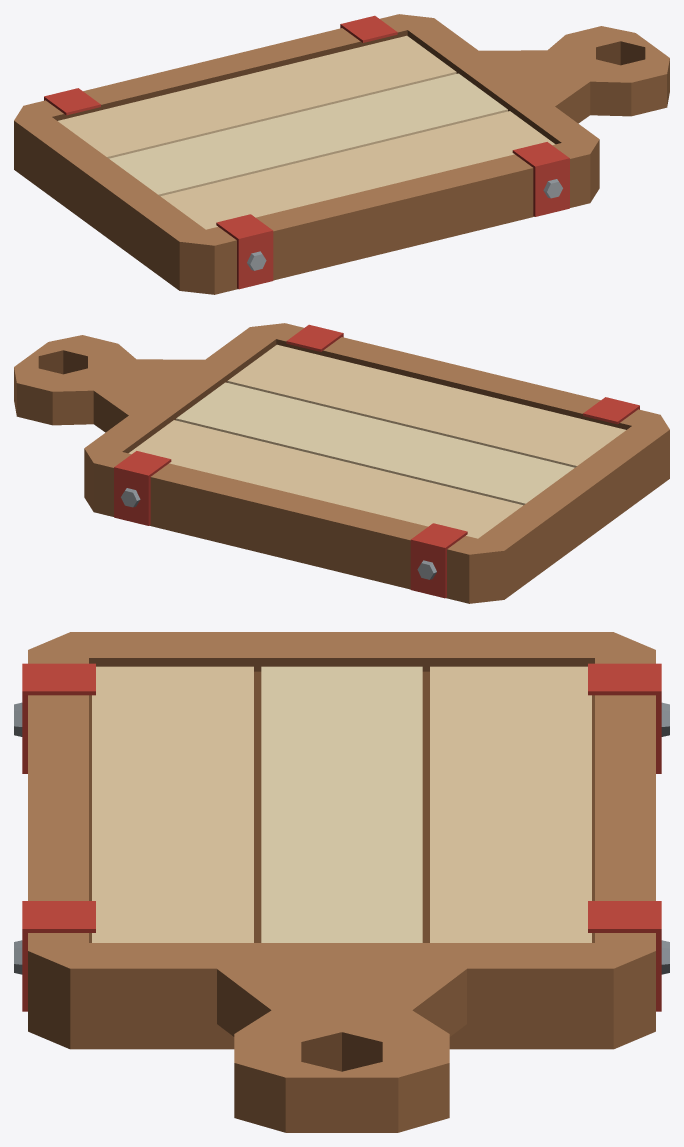
The model's file is FMS_Workshop_TOL_10.fbx.
3 renders of one model, top to bottom at view 1: azimuth 30°, elevation 25°; view 2: azimuth 150°, elevation 25°; view 3: azimuth 270°, elevation 25°, orthographic. The views are drawn at different scales.
Parts seen in each view (by area): view 1: FMS_Workshop_TOL_10_Body; view 2: FMS_Workshop_TOL_10_Body; view 3: FMS_Workshop_TOL_10_Body.
Boxes of the visible parts, left/top/right/bottom form: FMS_Workshop_TOL_10_Body: left=14, top=14, right=669, bottom=294; FMS_Workshop_TOL_10_Body: left=14, top=323, right=669, bottom=603; FMS_Workshop_TOL_10_Body: left=14, top=632, right=669, bottom=1132.
Bounding box in the file's own units: 0.45 × 0.04 × 0.28.
